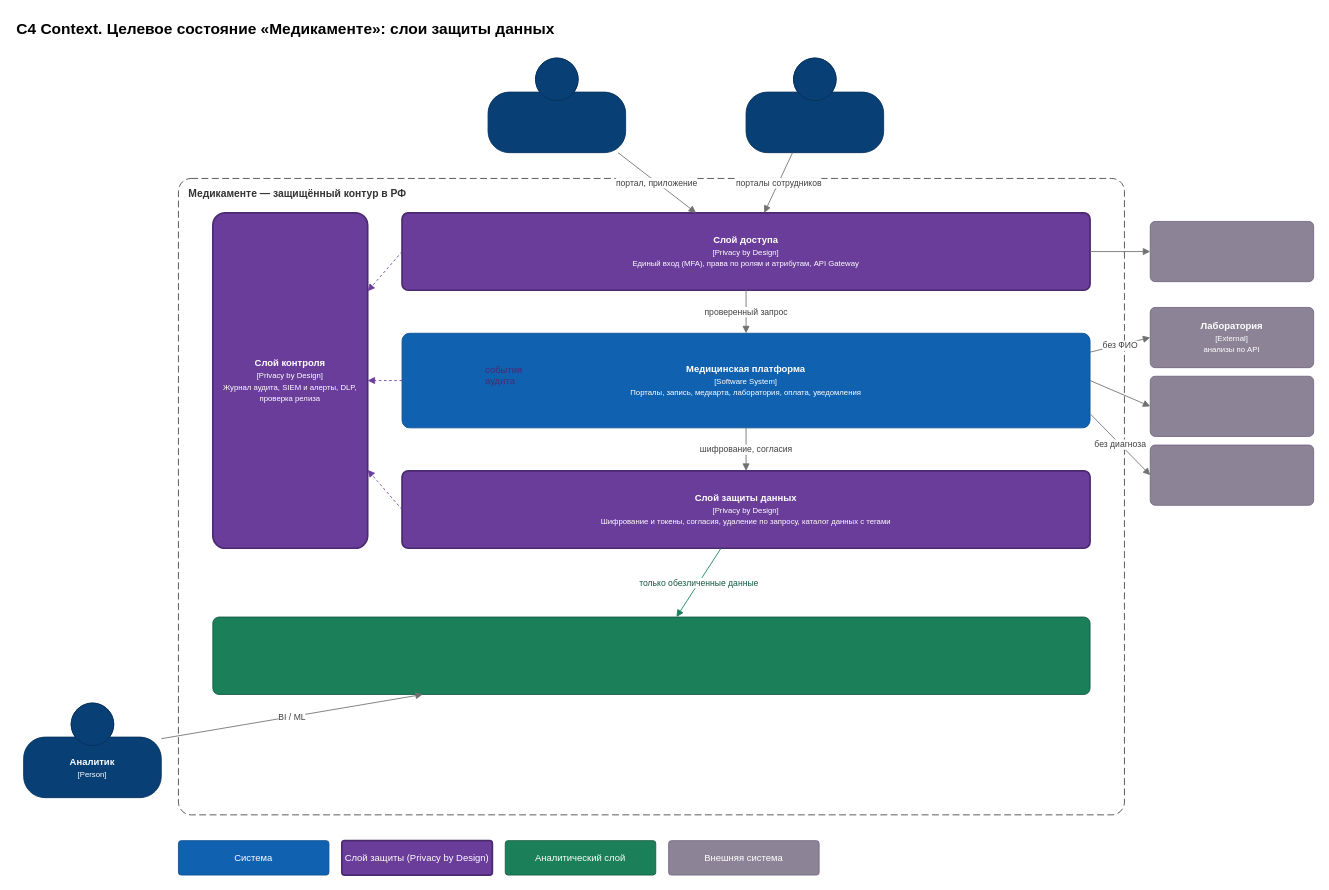
The diagram is 1329 pixels wide and 890 high, and some of its shapes have lost their labels. The shapes that lost their labels are listed below. From the top down, each one's centre as x and y in pixels, then its label:
At pixel 556 105: "Пациент [Person]".
At pixel 814 105: "Сотрудники клиники [Person]".
At pixel 1231 251: "ЕСИА [External] вход пациента".
At pixel 1231 405: "Банк [External] оплата картой".
At pixel 1231 474: "SMS-провайдер [External] напоминания".
At pixel 651 655: "Аналитическая платформа [Software System] Обезличивание → озеро данных → BI / ML".
